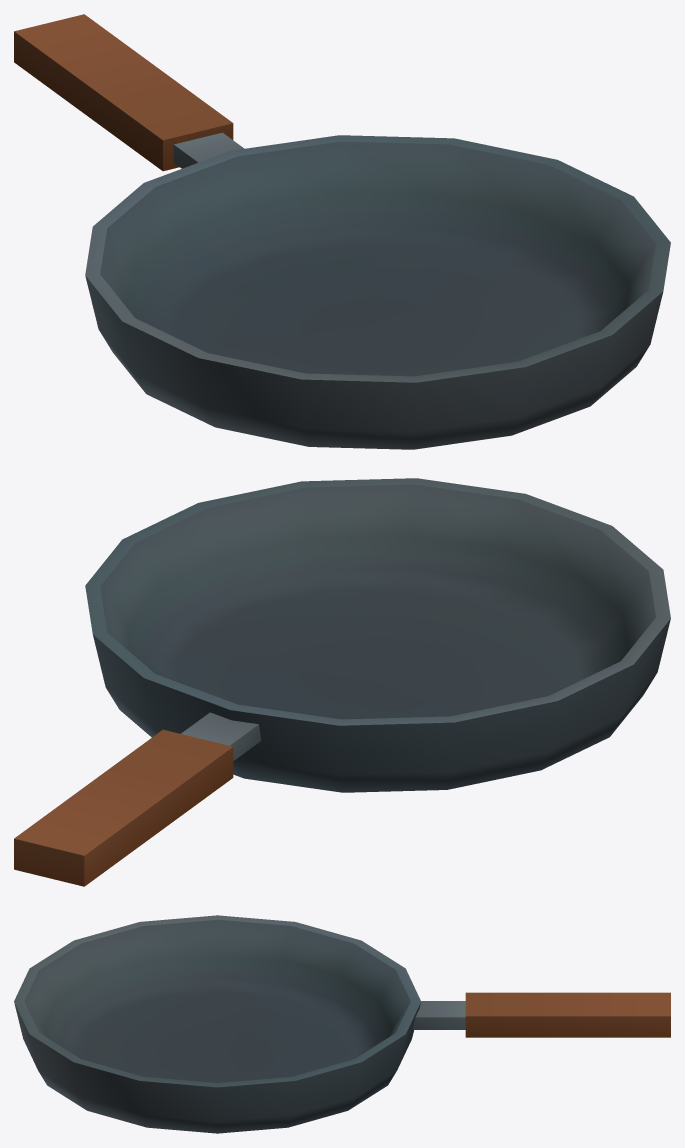
Rendered from frying_pan.glb.
3 renders of one model, top to bottom at view 1: azimuth 30°, elevation 25°; view 2: azimuth 150°, elevation 25°; view 3: azimuth 270°, elevation 25°, orthographic. The views are drawn at different scales.
Parts seen in each view (by area): view 1: frying_pan3; view 2: frying_pan3; view 3: frying_pan3.
Part boxes in pixels (box(x1,y1,x2,y2)): frying_pan3: box(14, 14, 670, 449); frying_pan3: box(14, 478, 670, 886); frying_pan3: box(14, 915, 670, 1133).
Bounding box in the file's own units: 0.2603 × 0.0422 × 0.42.
Materials: 1 (1 with a texture image).
